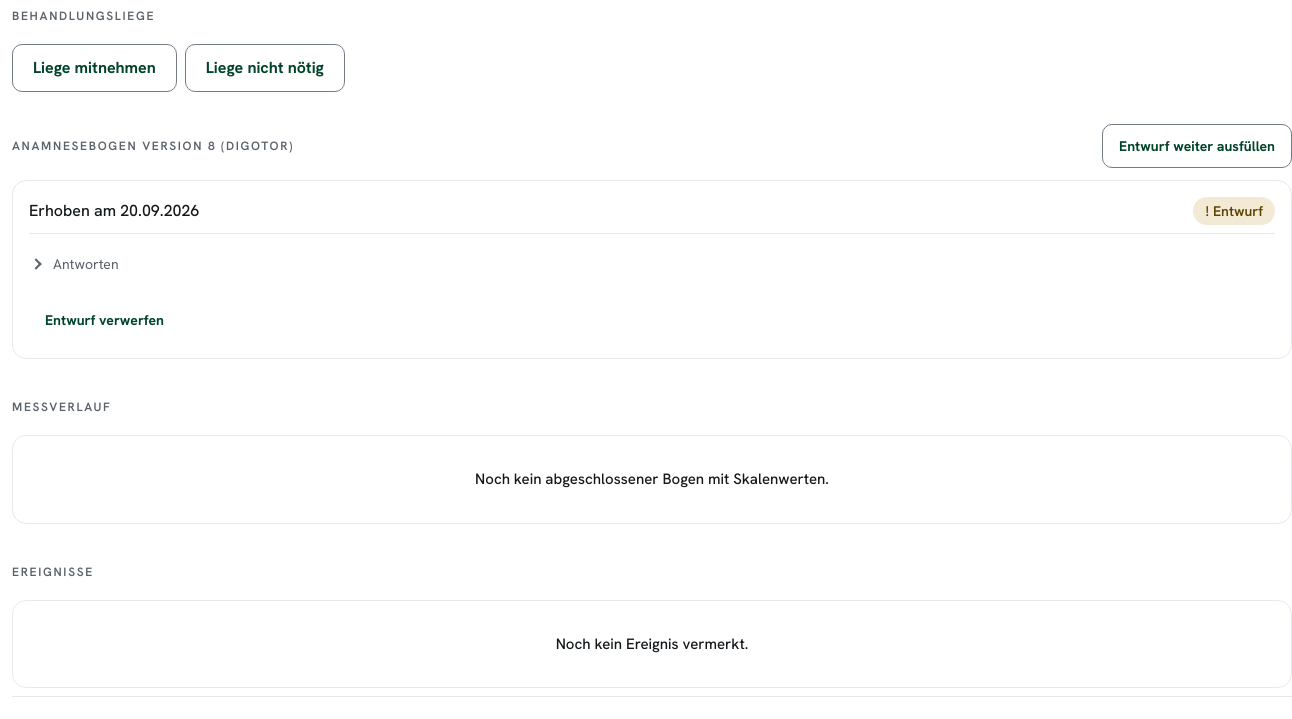
Befund der Akte › verwirft einen Entwurf auch in der Akte, erst nach einer Rückfrage (BEF-02)
Click the button "Entwurf verwerfen" at (104, 320), box [29, 298, 180, 342]
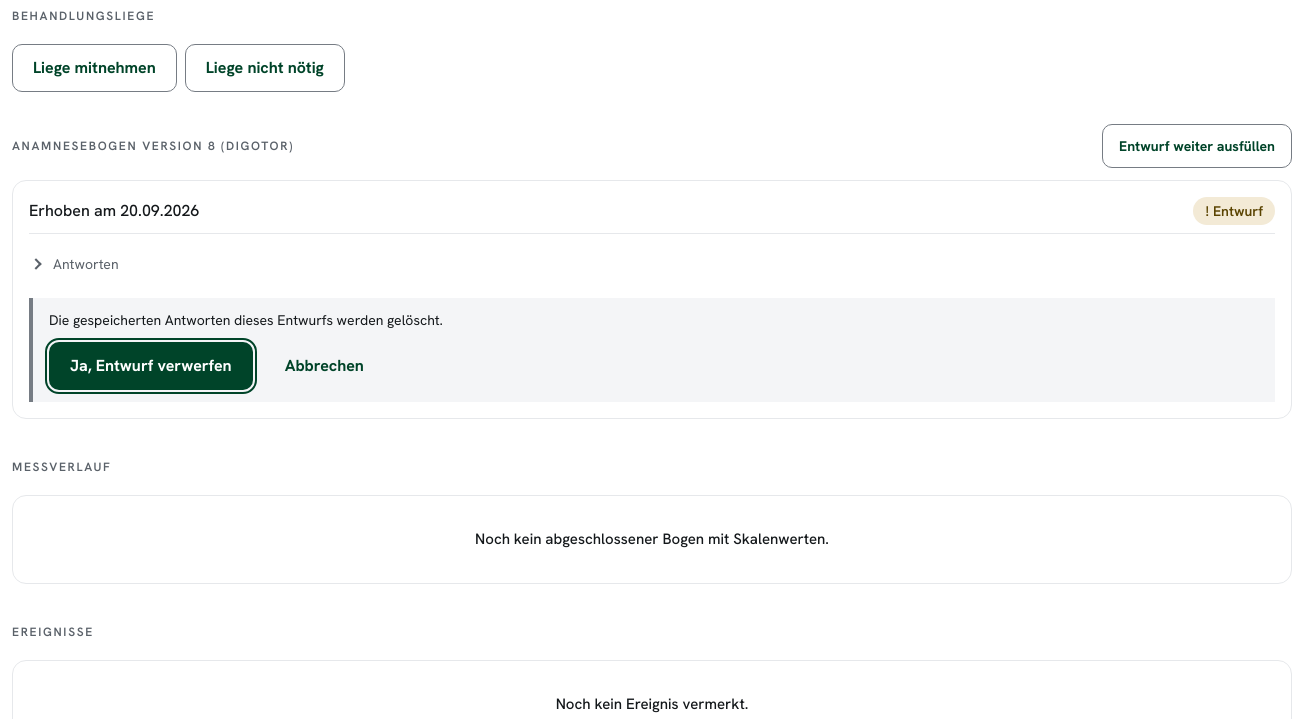
Expected: the element named "Entwurf vom 20.09.2026 verwerfen" shows "Die gespeicherten Antworten dieses Entwurfs werden gelöscht.", [49, 311, 443, 329]
Click the button "Ja, Entwurf verwerfen" at (151, 366), box [49, 342, 253, 390]
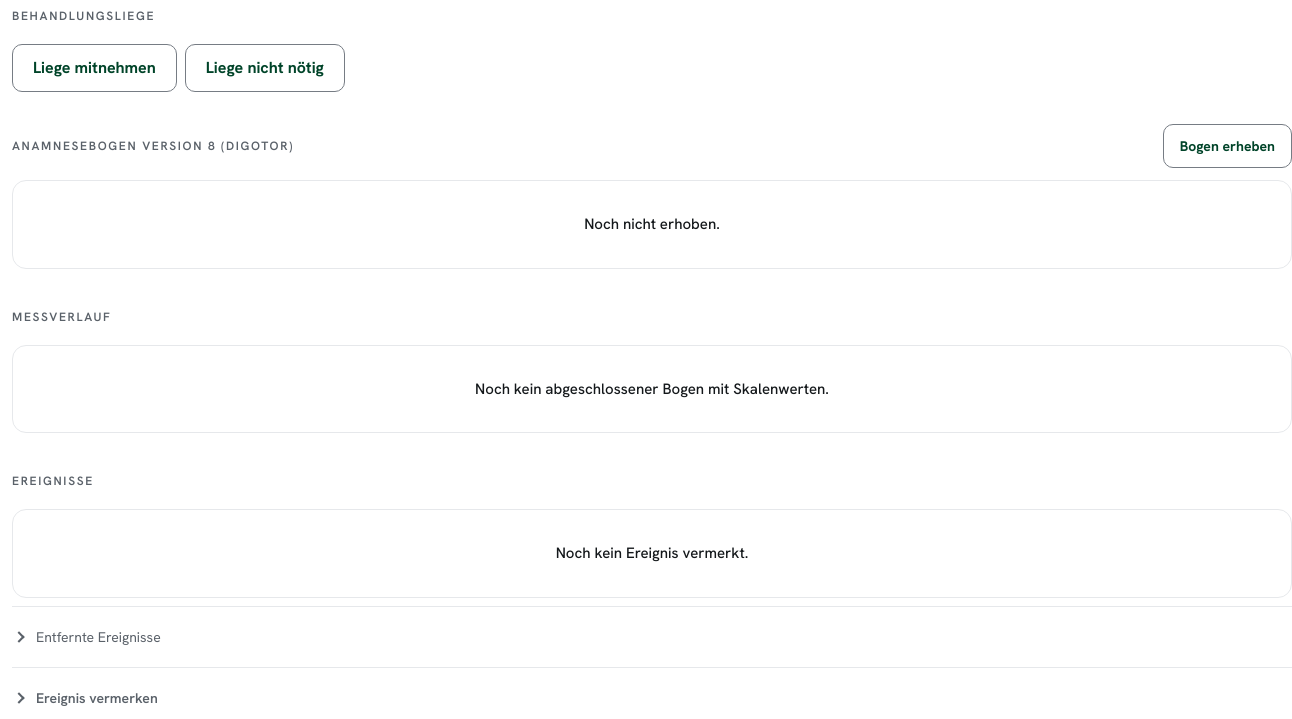
Expected: the link "Bogen erheben" is shown, [1163, 124, 1291, 168]
